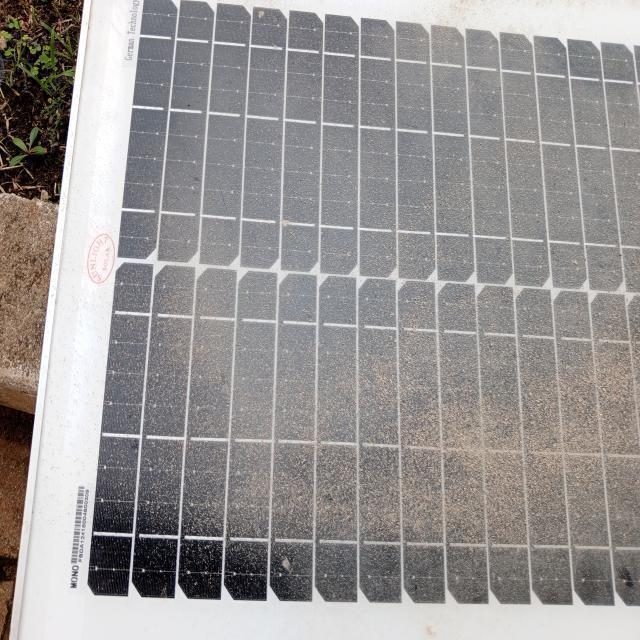Anomaly Solar Panel: (81, 2, 640, 629)
Surface Contaminant: (137, 3, 639, 591)
